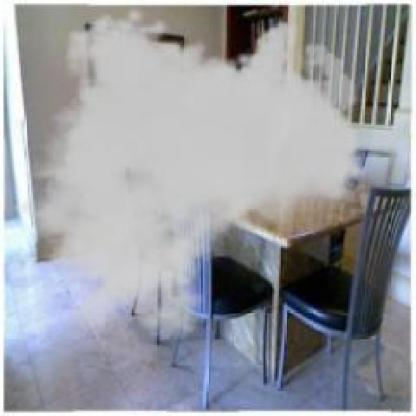Smoke: (2, 5, 367, 342)
